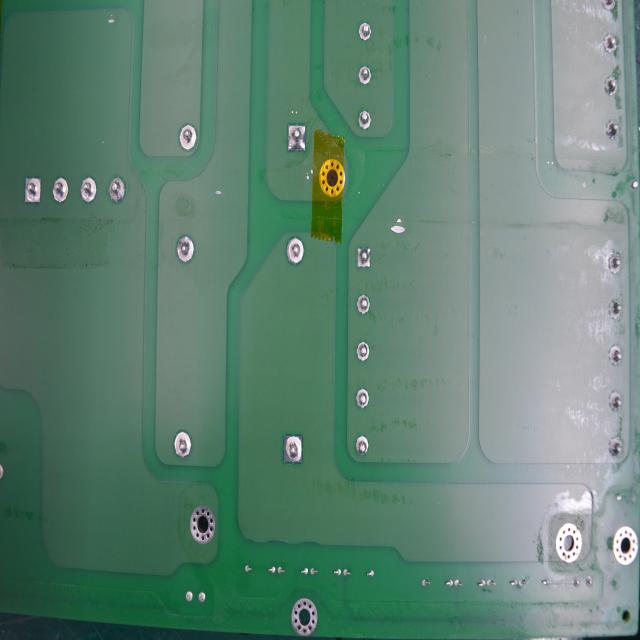spillover: (391, 218, 408, 236), (107, 14, 118, 25), (214, 188, 225, 198)
